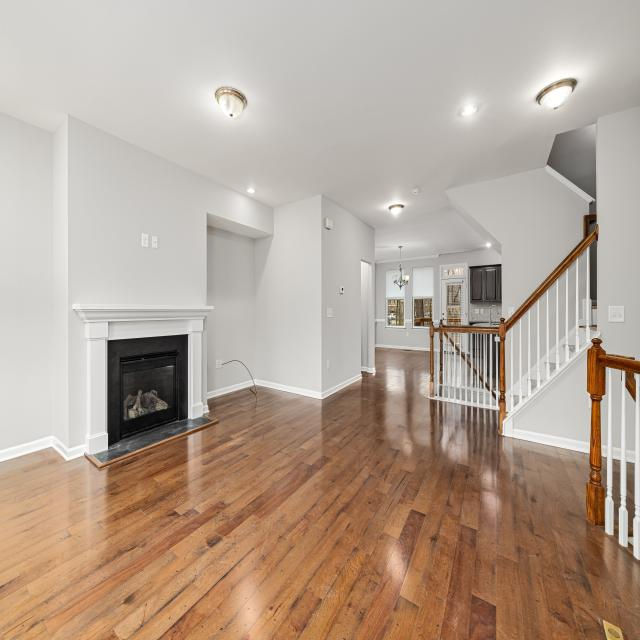floor: (0, 347, 640, 640)
wall: (68, 113, 274, 448), (445, 167, 589, 323), (0, 112, 54, 451), (255, 195, 322, 393), (597, 106, 640, 361), (321, 195, 375, 393), (207, 225, 255, 393), (401, 249, 502, 325), (513, 352, 591, 443), (52, 113, 69, 448), (376, 261, 400, 319), (376, 323, 431, 348), (578, 248, 587, 321), (548, 280, 557, 351), (568, 259, 576, 333), (558, 269, 566, 342), (539, 290, 547, 360), (530, 300, 538, 369), (521, 310, 529, 378), (513, 319, 520, 386), (590, 239, 597, 300), (505, 327, 511, 393), (596, 118, 598, 224), (590, 222, 597, 235), (433, 332, 438, 349), (375, 263, 376, 319), (438, 332, 440, 349)
